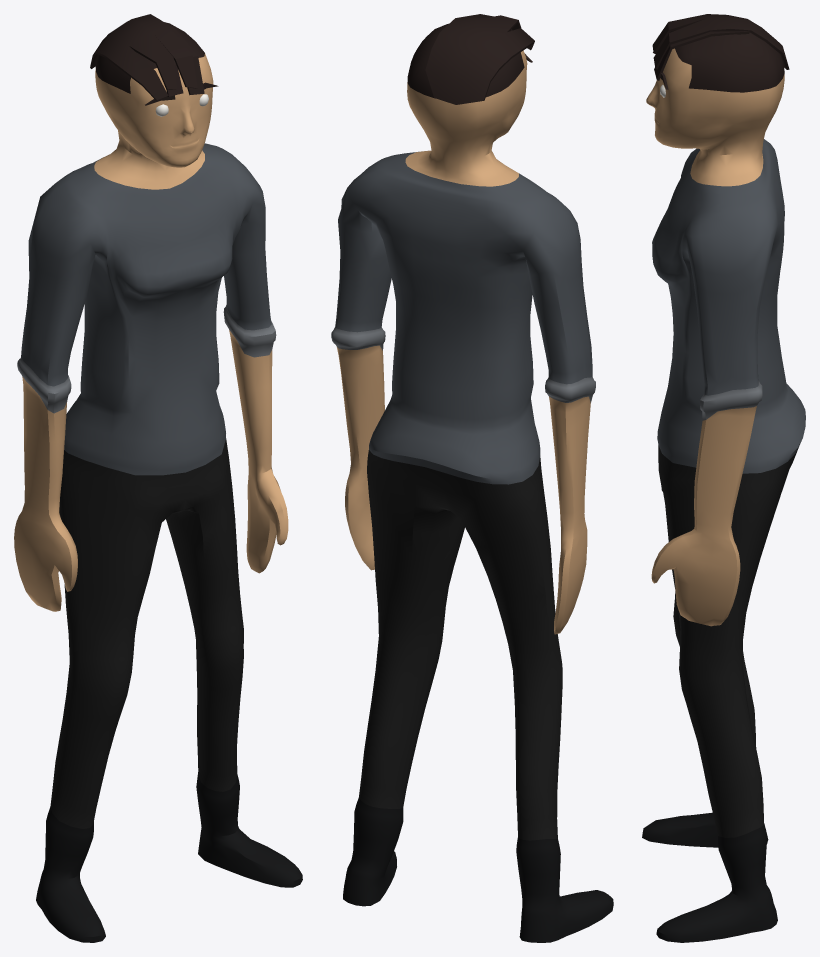
Rendered from smooth_female_alternative.glb.
3 views of the same model, side by side, from view 1: azimuth 30°, elevation 25°; view 2: azimuth 150°, elevation 25°; view 3: azimuth 270°, elevation 25° (orthographic). The views are drawn at different scales.
Parts seen in each view (by area): view 1: SmoothFemaleAlternative; view 2: SmoothFemaleAlternative; view 3: SmoothFemaleAlternative.
Part boxes in pixels (bbox=[...]): SmoothFemaleAlternative: bbox=[14, 14, 302, 942]; SmoothFemaleAlternative: bbox=[331, 14, 613, 942]; SmoothFemaleAlternative: bbox=[642, 14, 805, 942].
Bounding box in the file's own units: 0.5367 × 1.8 × 0.3107.
